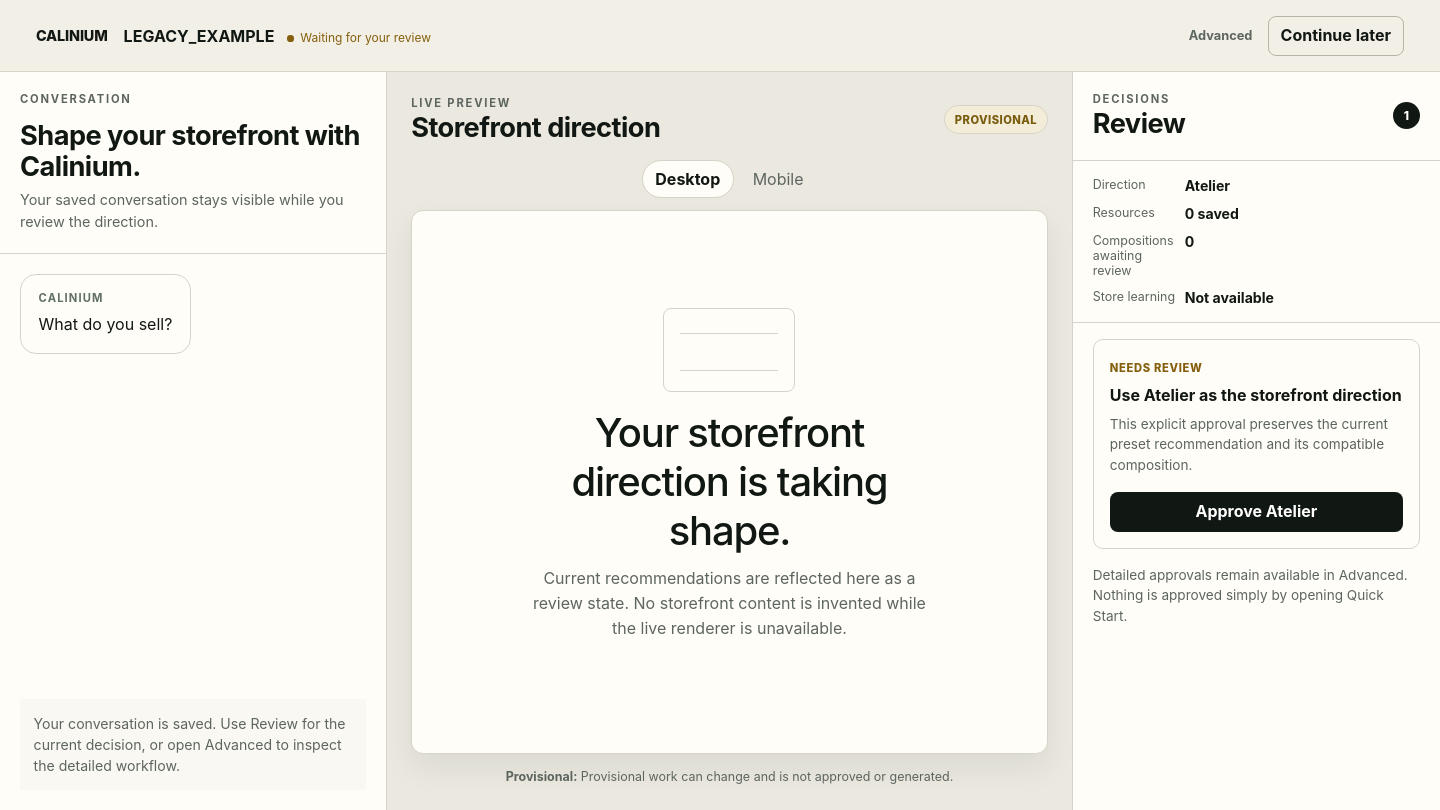
Scenario: Quick Start orchestration › keeps canonical state visible when a decision fails
Click the button "Approve Atelier" at [1256, 512], box [1110,492,1403,532]
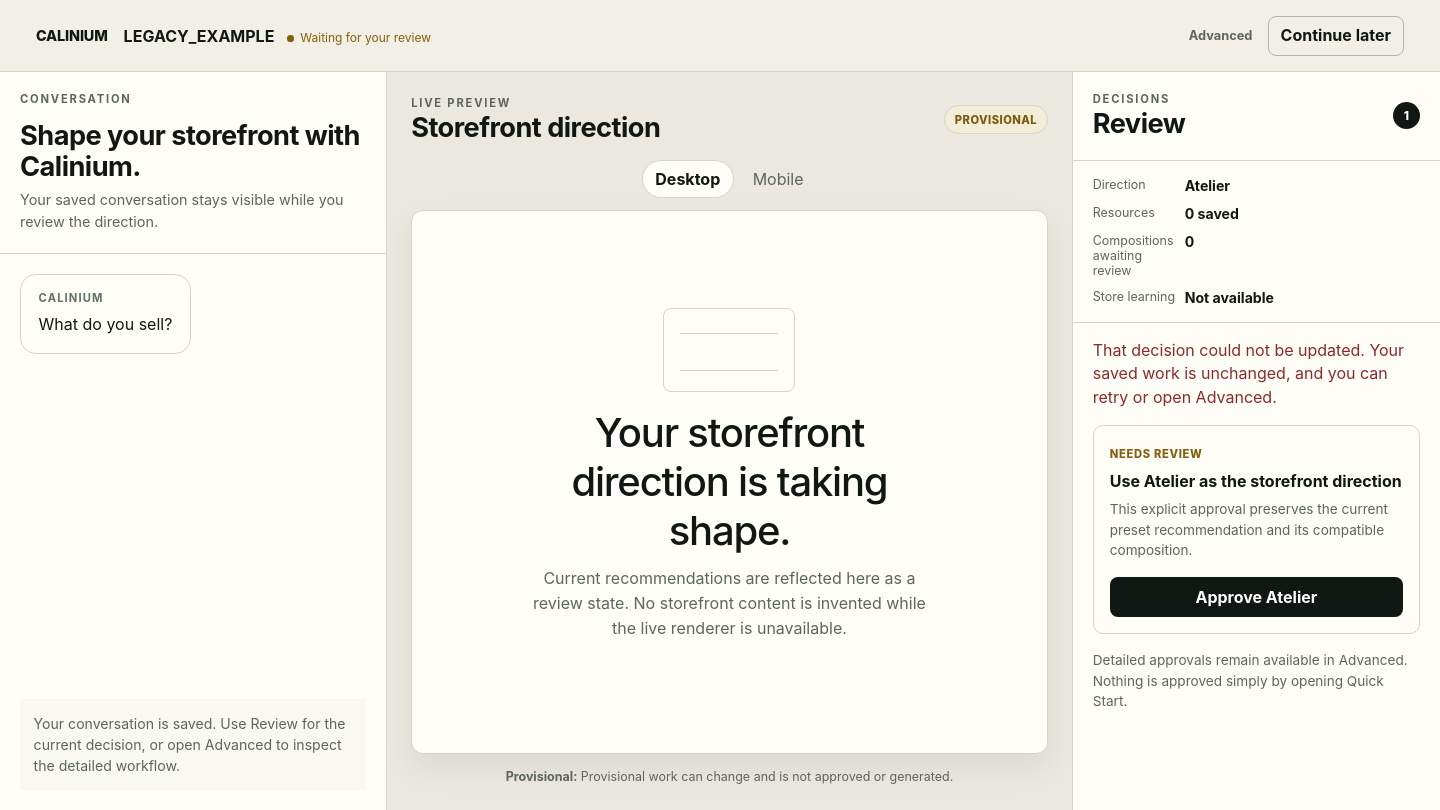
Expected: the text "Provisional" is shown, [944,105,1048,134]
Now the text "saved work is unchanged" is shown, box [1093,340,1404,407]
